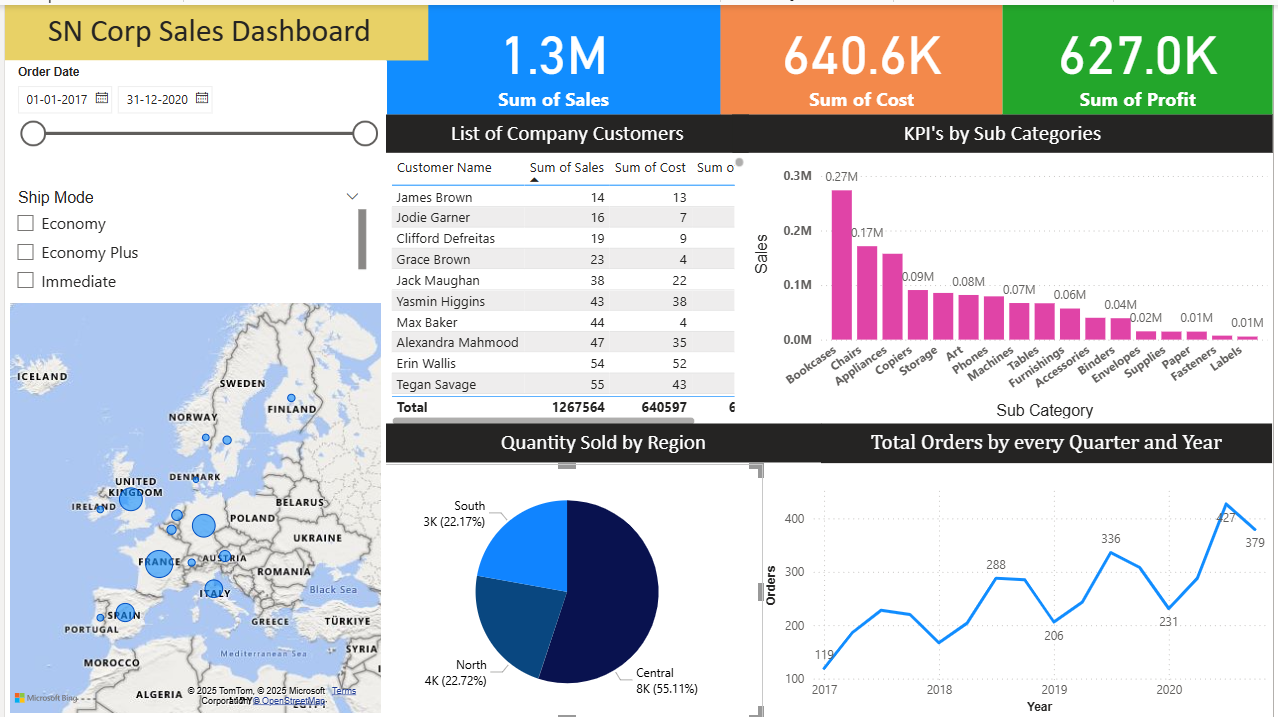

This screenshot's page, from the dashboard's own definition file:
{"tool":"powerbi","page":{"name":"Page 1","canvas":[1280,720],"ordinal":0},"visuals":[{"type":"card","fields":{"Values":["List of Orders.Sales"]},"box":[384.6,0,337.7,110.5],"z":0},{"type":"card","fields":{"Values":["List of Orders.Cost"]},"box":[722.3,0,284.7,110.5],"z":1000},{"type":"card","fields":{"Values":["List of Orders.Profit"]},"box":[1006.9,0,272.6,110.5],"z":2000},{"type":"tableEx","fields":{"Values":["List of Orders.Customer Name","List of Orders.Sales","List of Orders.Cost","List of Orders.Profit"]},"box":[385,148.8,366.2,281.2],"z":3000},{"type":"clusteredColumnChart","fields":{"Category":["List of Orders.Sub-Category"],"Y":["List of Orders.Sales"]},"box":[751,149.9,528.5,272.6],"z":4000},{"type":"lineChart","fields":{"Y":["List of Orders.Order ID"],"Category":["List of Orders.Order Date.Variation.Date Hierarchy.Year","List of Orders.Order Date.Variation.Date Hierarchy.Quarter"]},"box":[763.2,477,516.3,243],"z":5000},{"type":"pieChart","fields":{"Y":["List of Orders.Quantity"],"Category":["List of Orders.Region"]},"box":[369.5,463.3,395.2,257.4],"z":6000},{"type":"textbox","box":[0,0,384.6,56],"z":7000},{"type":"slicer","fields":{"Values":["List of Orders.Ship Mode"]},"box":[0,180.2,369.5,115.1],"z":8000},{"type":"slicer","fields":{"Values":["List of Orders.Order Date"]},"box":[0,56,384.6,118.1],"z":9000},{"type":"map","fields":{"Category":["List of Orders.Country"],"Size":["List of Orders.Sales"]},"box":[0,295.3,384.6,424],"z":10000},{"type":"textbox","box":[385,110,366.2,38.8],"z":11000},{"type":"textbox","box":[735,110,545,38.8],"z":12000},{"type":"textbox","box":[384.6,422.5,439.1,39.4],"z":13000},{"type":"textbox","box":[823.8,422.5,455,40],"z":14000}]}

Visuals, with their boxes in screenshot pixels (x1, y1, x2, y2), scaled from the page's 1280x720 canvas onto the 1278x717 screenshot:
card - List of Orders.Sales: 384 0 721 110
card - List of Orders.Cost: 721 0 1005 110
card - List of Orders.Profit: 1005 0 1277 110
tableEx - List of Orders.Customer Name x List of Orders.Sales: 384 148 750 428
clusteredColumnChart - List of Orders.Sub-Category x List of Orders.Sales: 750 149 1277 421
lineChart - List of Orders.Order ID x List of Orders.Order Date.Variation.Date Hierarchy.Year: 762 475 1277 716
pieChart - List of Orders.Quantity x List of Orders.Region: 369 461 764 716
textbox: 0 0 384 56
slicer - List of Orders.Ship Mode: 0 179 369 294
slicer - List of Orders.Order Date: 0 56 384 173
map - List of Orders.Country x List of Orders.Sales: 0 294 384 716
textbox: 384 110 750 148
textbox: 734 110 1277 148
textbox: 384 421 822 460
textbox: 823 421 1277 461
